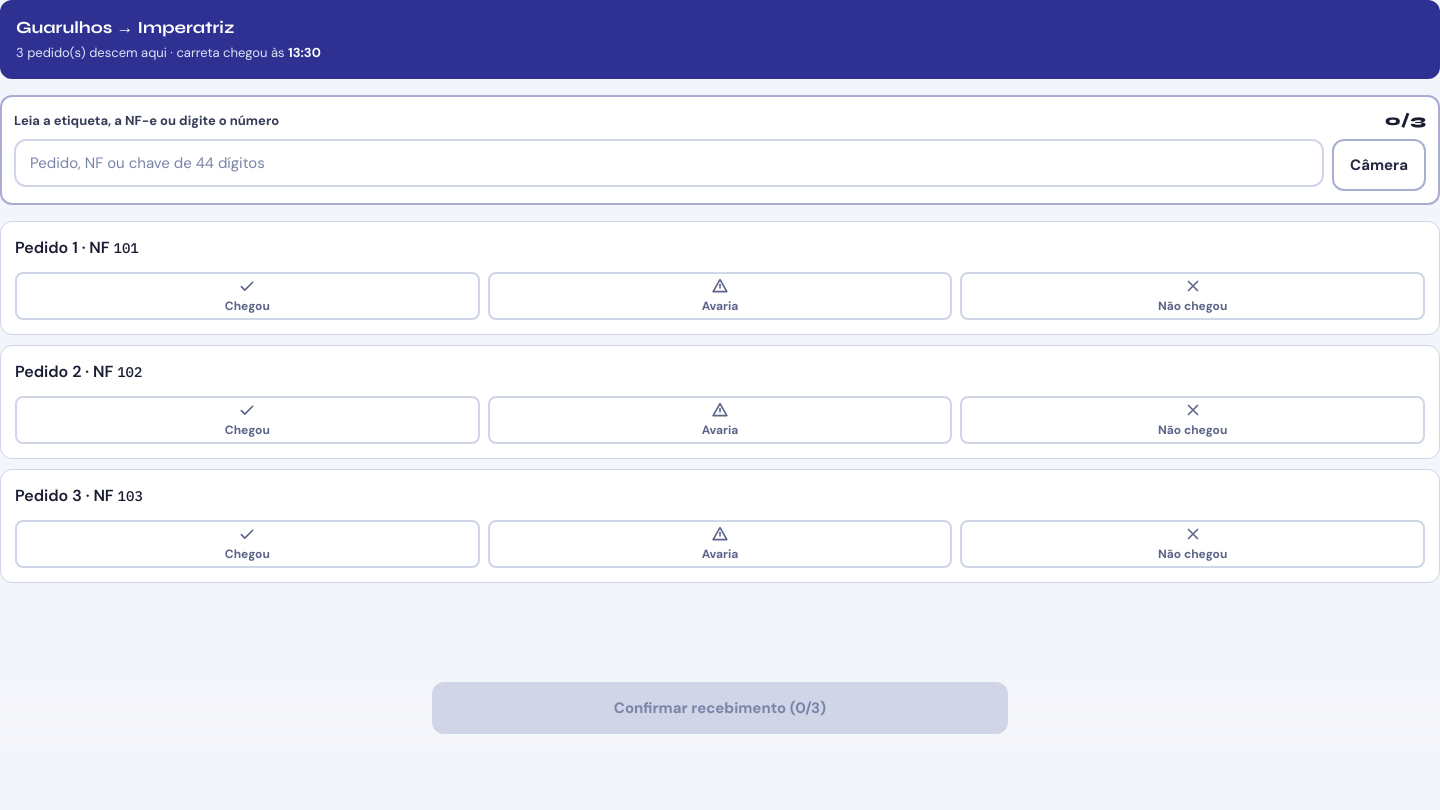
TripReceivePage: chegada e conferência › leitura que casa marca "Chegou"; leitura de outra viagem avisa; só libera ao marcar tudo
Type "1" into the field named "Código lido" at (669, 163), box [14,139,1324,187]
Then press Enter
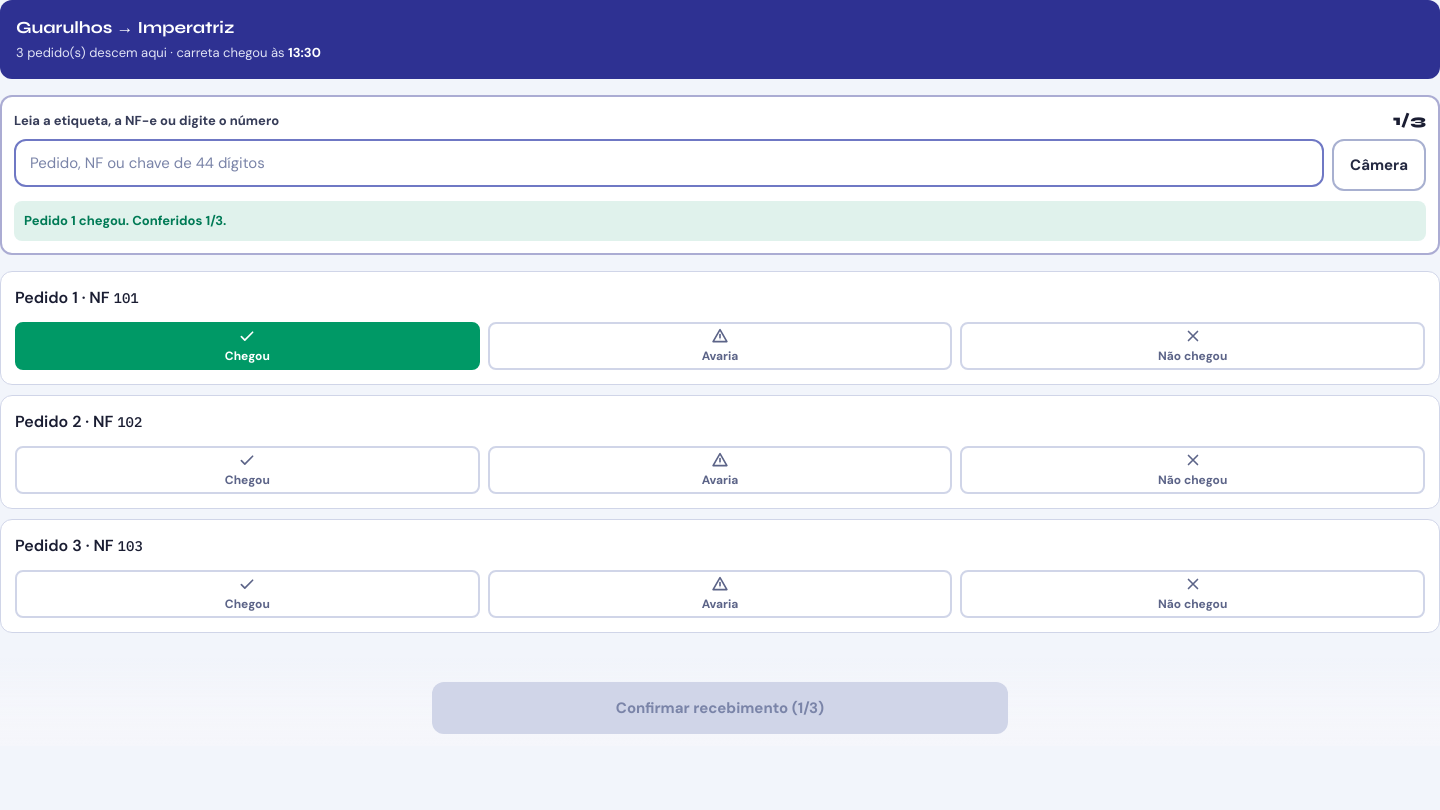
Check: the message reads "Pedido 1 chegou. Conferidos 1/3.", box [24,212,226,229]
Type "99" into the field named "Código lido" at (669, 163), box [14,139,1324,187]
Then press Enter
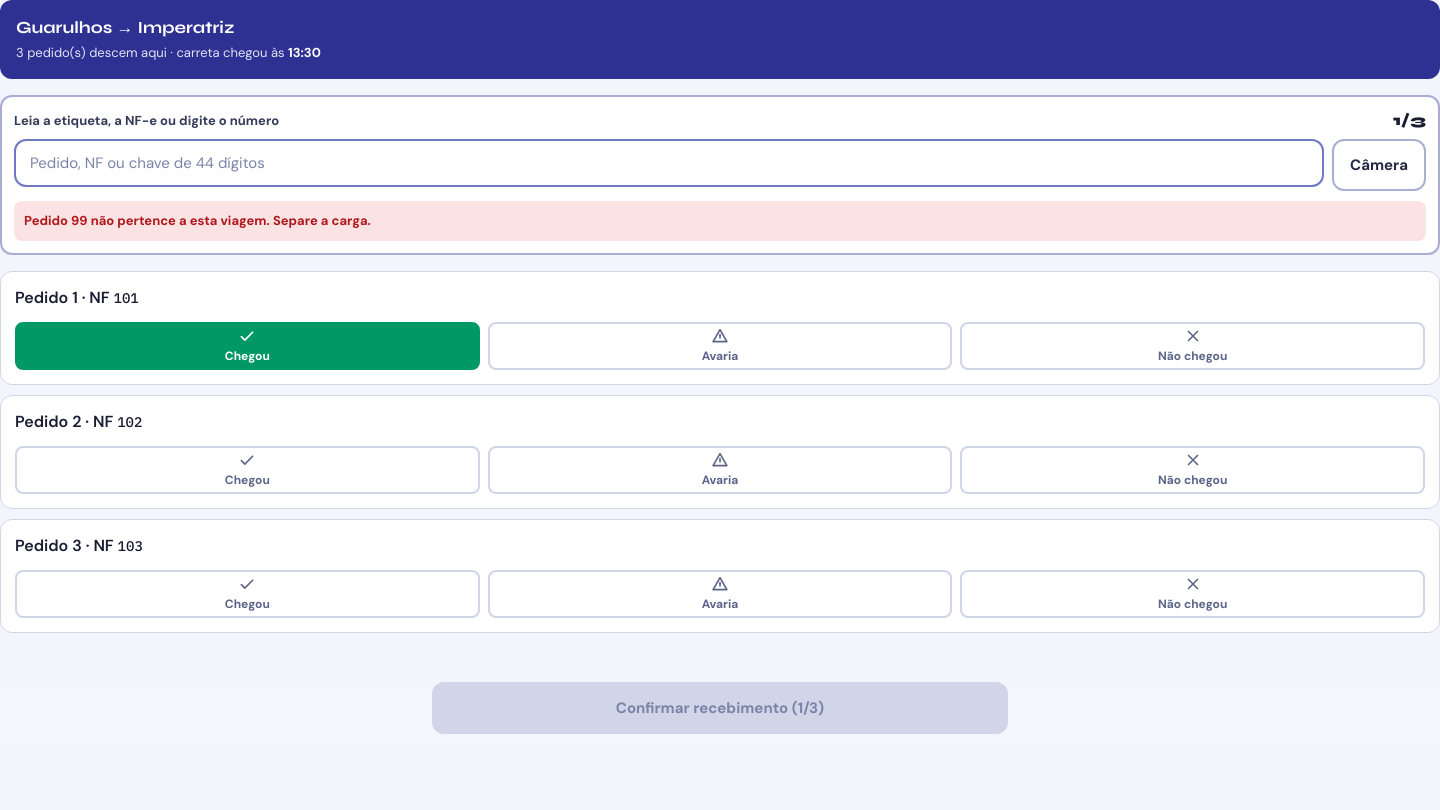
Check: the button "Confirmar recebimento (1/3)" is disabled, box [432,682,1008,734]
Check: the text "Pedido 99 não pertence a esta viagem. Separe a carga." is shown, box [14,201,1426,241]
